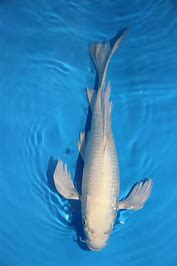white: (52, 27, 152, 251)
